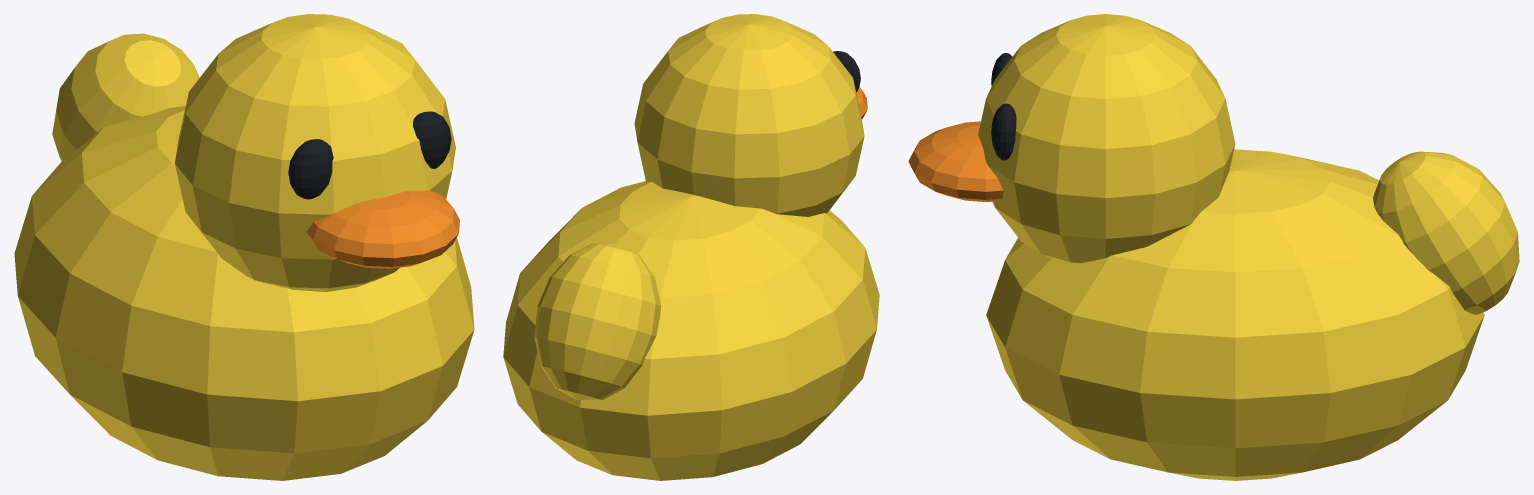
File: rubber-duck-lod0.glb
The picture shows the model from 3 angles, left to right: view 1: azimuth 30°, elevation 25°; view 2: azimuth 150°, elevation 25°; view 3: azimuth 270°, elevation 25°; orthographic projection. The views are drawn at different scales.
Visible parts, largest first — view 1: rubber-duck; view 2: rubber-duck; view 3: rubber-duck.
Part boxes in pixels (bbox=[...]): rubber-duck: bbox=[14, 14, 474, 480]; rubber-duck: bbox=[503, 14, 879, 480]; rubber-duck: bbox=[908, 14, 1519, 480].
Bounding box in the file's own units: 0.4 × 0.48 × 0.613.
